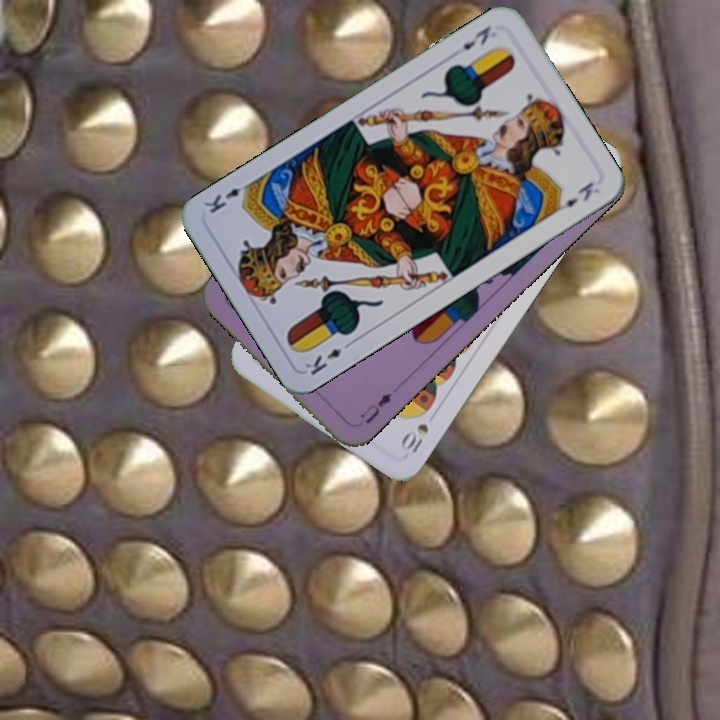EK: (300, 336, 356, 378), (458, 21, 494, 53)
EU: (356, 388, 395, 427)
S10: (396, 419, 432, 456)
